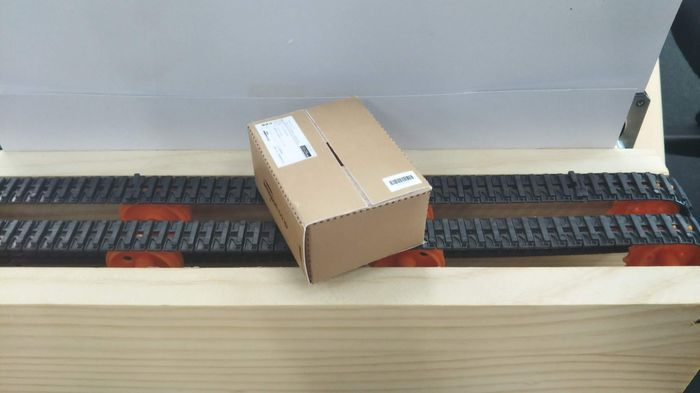box1: (245, 91, 429, 284)
